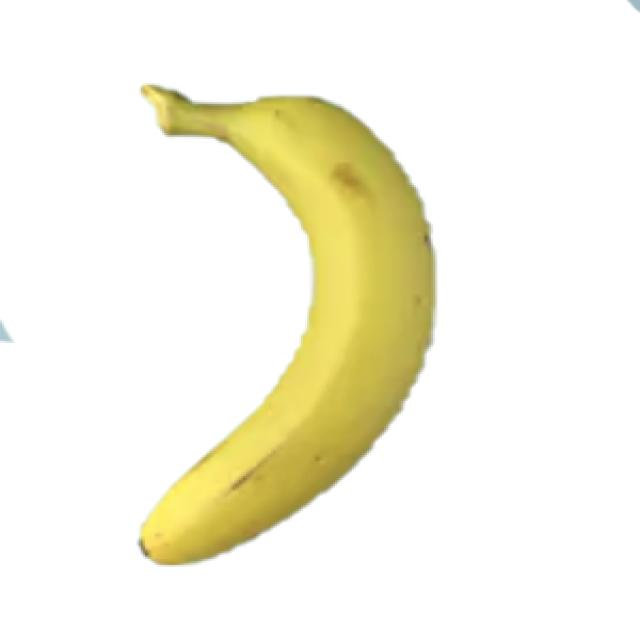fresh-banana: (134, 81, 438, 565)
